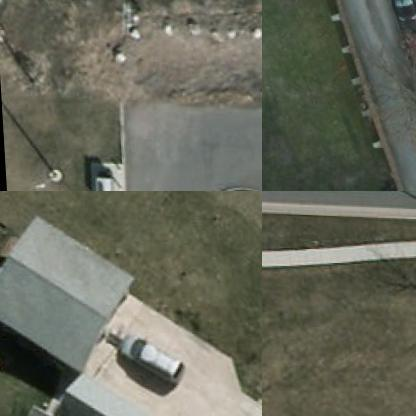car: (118, 334, 186, 382), (397, 32, 415, 76), (378, 0, 409, 15)
